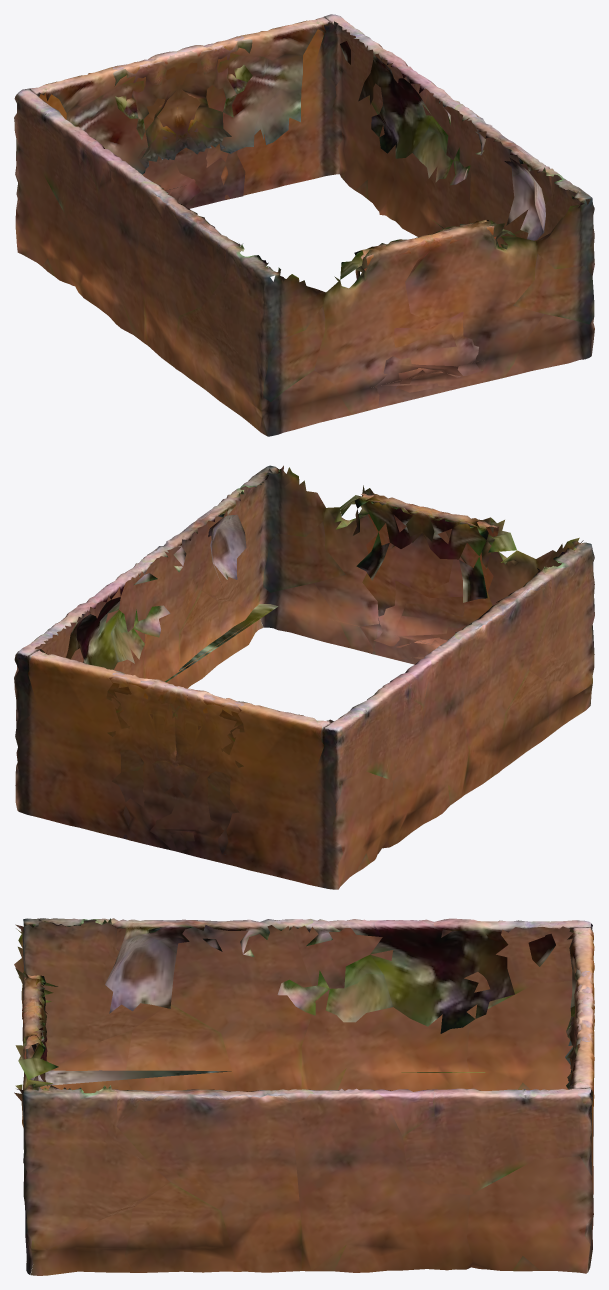
The model's file is planter.glb.
The picture shows the model from 3 angles, top to bottom: view 1: azimuth 30°, elevation 25°; view 2: azimuth 150°, elevation 25°; view 3: azimuth 270°, elevation 25°; orthographic projection. The views are drawn at different scales.
Visible parts, largest first — view 1: scan-0; view 2: scan-0; view 3: scan-0.
Boxes of the visible parts, box(x1,y1,x2,y2) form: scan-0: box(14, 14, 594, 436); scan-0: box(14, 465, 594, 889); scan-0: box(14, 918, 594, 1275).
Size of the model in its own units: 0.9298 by 0.4397 by 1.26.
1 material, 1 textured.
